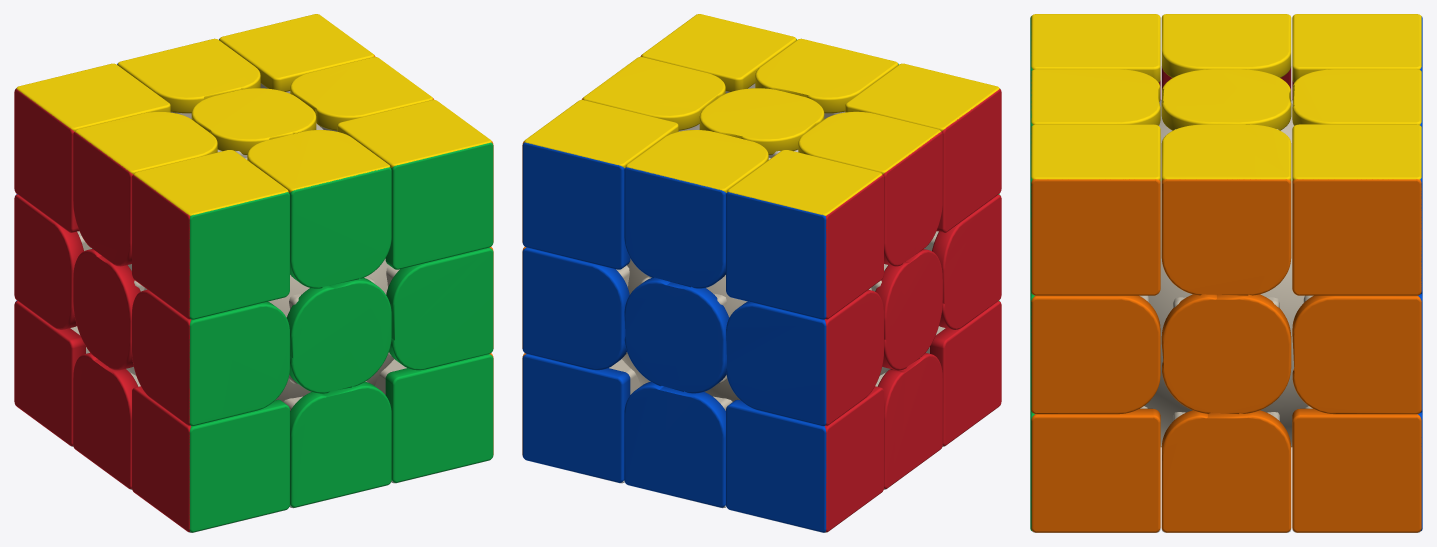
3 views of the same model, side by side, from view 1: azimuth 30°, elevation 25°; view 2: azimuth 150°, elevation 25°; view 3: azimuth 270°, elevation 25° (orthographic). The views are drawn at different scales.
Visible parts, largest first — view 1: piece_-1,1,1, piece_-1,-1,1, piece_1,1,1, piece_-1,0,1, piece_0,1,1, piece_-1,1,-1, piece_1,-1,1, piece_-1,1,0, piece_1,0,1, piece_0,-1,1, piece_0,0,1, piece_-1,-1,-1 (+8 smaller); view 2: piece_-1,1,-1, piece_-1,-1,-1, piece_1,1,-1, piece_-1,0,-1, piece_0,1,-1, piece_-1,1,1, piece_1,-1,-1, piece_-1,1,0, piece_1,0,-1, piece_0,-1,-1, piece_0,0,-1, piece_-1,-1,1 (+8 smaller); view 3: piece_1,1,-1, piece_1,1,1, piece_1,1,0, piece_1,-1,1, piece_1,-1,-1, piece_1,-1,0, piece_1,0,1, piece_1,0,-1, piece_1,0,0, piece_-1,1,0, piece_-1,1,-1, piece_-1,1,1 (+4 smaller).
Boxes of the visible parts, bbox=[...] form: piece_-1,1,1: bbox=[132, 150, 289, 319]; piece_-1,-1,1: bbox=[132, 386, 289, 532]; piece_1,1,1: bbox=[337, 100, 493, 269]; piece_-1,0,1: bbox=[132, 289, 289, 426]; piece_0,1,1: bbox=[247, 130, 391, 288]; piece_-1,1,-1: bbox=[14, 63, 170, 232]; piece_1,-1,1: bbox=[375, 353, 493, 483]; piece_-1,1,0: bbox=[73, 111, 217, 266]; piece_1,0,1: bbox=[386, 247, 493, 370]; piece_0,-1,1: bbox=[283, 381, 391, 508]; piece_0,0,1: bbox=[286, 277, 391, 393]; piece_-1,-1,-1: bbox=[14, 300, 89, 446]; piece_-1,1,-1: bbox=[726, 150, 883, 319]; piece_-1,-1,-1: bbox=[726, 386, 883, 532]; piece_1,1,-1: bbox=[522, 100, 678, 269]; piece_-1,0,-1: bbox=[726, 289, 883, 426]; piece_0,1,-1: bbox=[624, 130, 768, 288]; piece_-1,1,1: bbox=[845, 63, 1001, 232]; piece_1,-1,-1: bbox=[522, 353, 640, 483]; piece_-1,1,0: bbox=[798, 111, 942, 266]; piece_1,0,-1: bbox=[522, 247, 629, 370]; piece_0,-1,-1: bbox=[624, 381, 732, 508]; piece_0,0,-1: bbox=[624, 277, 729, 393]; piece_-1,-1,1: bbox=[926, 300, 1001, 446]; piece_1,1,-1: bbox=[1292, 124, 1422, 295]; piece_1,1,1: bbox=[1030, 124, 1160, 295]; piece_1,1,0: bbox=[1161, 124, 1291, 295]; piece_1,-1,1: bbox=[1030, 406, 1160, 532]; piece_1,-1,-1: bbox=[1292, 406, 1422, 532]; piece_1,-1,0: bbox=[1161, 410, 1291, 532]; piece_1,0,1: bbox=[1030, 292, 1160, 414]; piece_1,0,-1: bbox=[1292, 292, 1422, 414]; piece_1,0,0: bbox=[1161, 294, 1291, 414]; piece_-1,1,0: bbox=[1161, 14, 1291, 98]; piece_-1,1,-1: bbox=[1292, 14, 1422, 99]; piece_-1,1,1: bbox=[1030, 14, 1160, 99].
Size of the model in its own units: 2 by 2 by 2.
